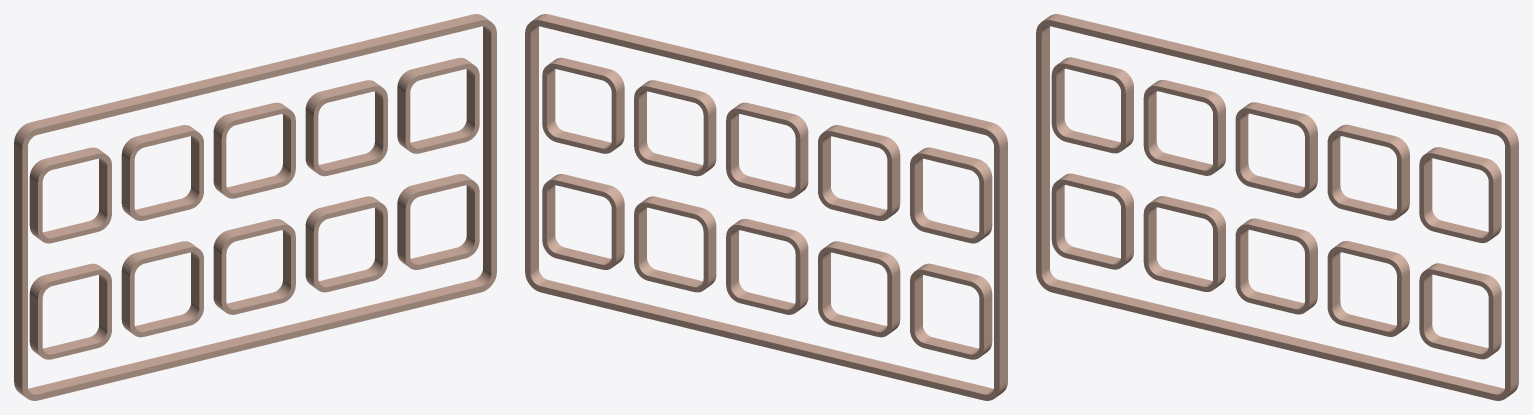
The model's file is tinker.obj.
3 views of the same model, side by side, from view 1: azimuth 30°, elevation 25°; view 2: azimuth 150°, elevation 25°; view 3: azimuth 330°, elevation 25° (orthographic).
Visible parts, largest first — view 1: obj_0; view 2: obj_0; view 3: obj_0.
Boxes of the visible parts, x1,y1,x2,y2 form: obj_0: (14,14,496,400); obj_0: (525,14,1007,400); obj_0: (1036,14,1518,400).
Bounding box in the file's own units: 100 × 54.88 × 3.
